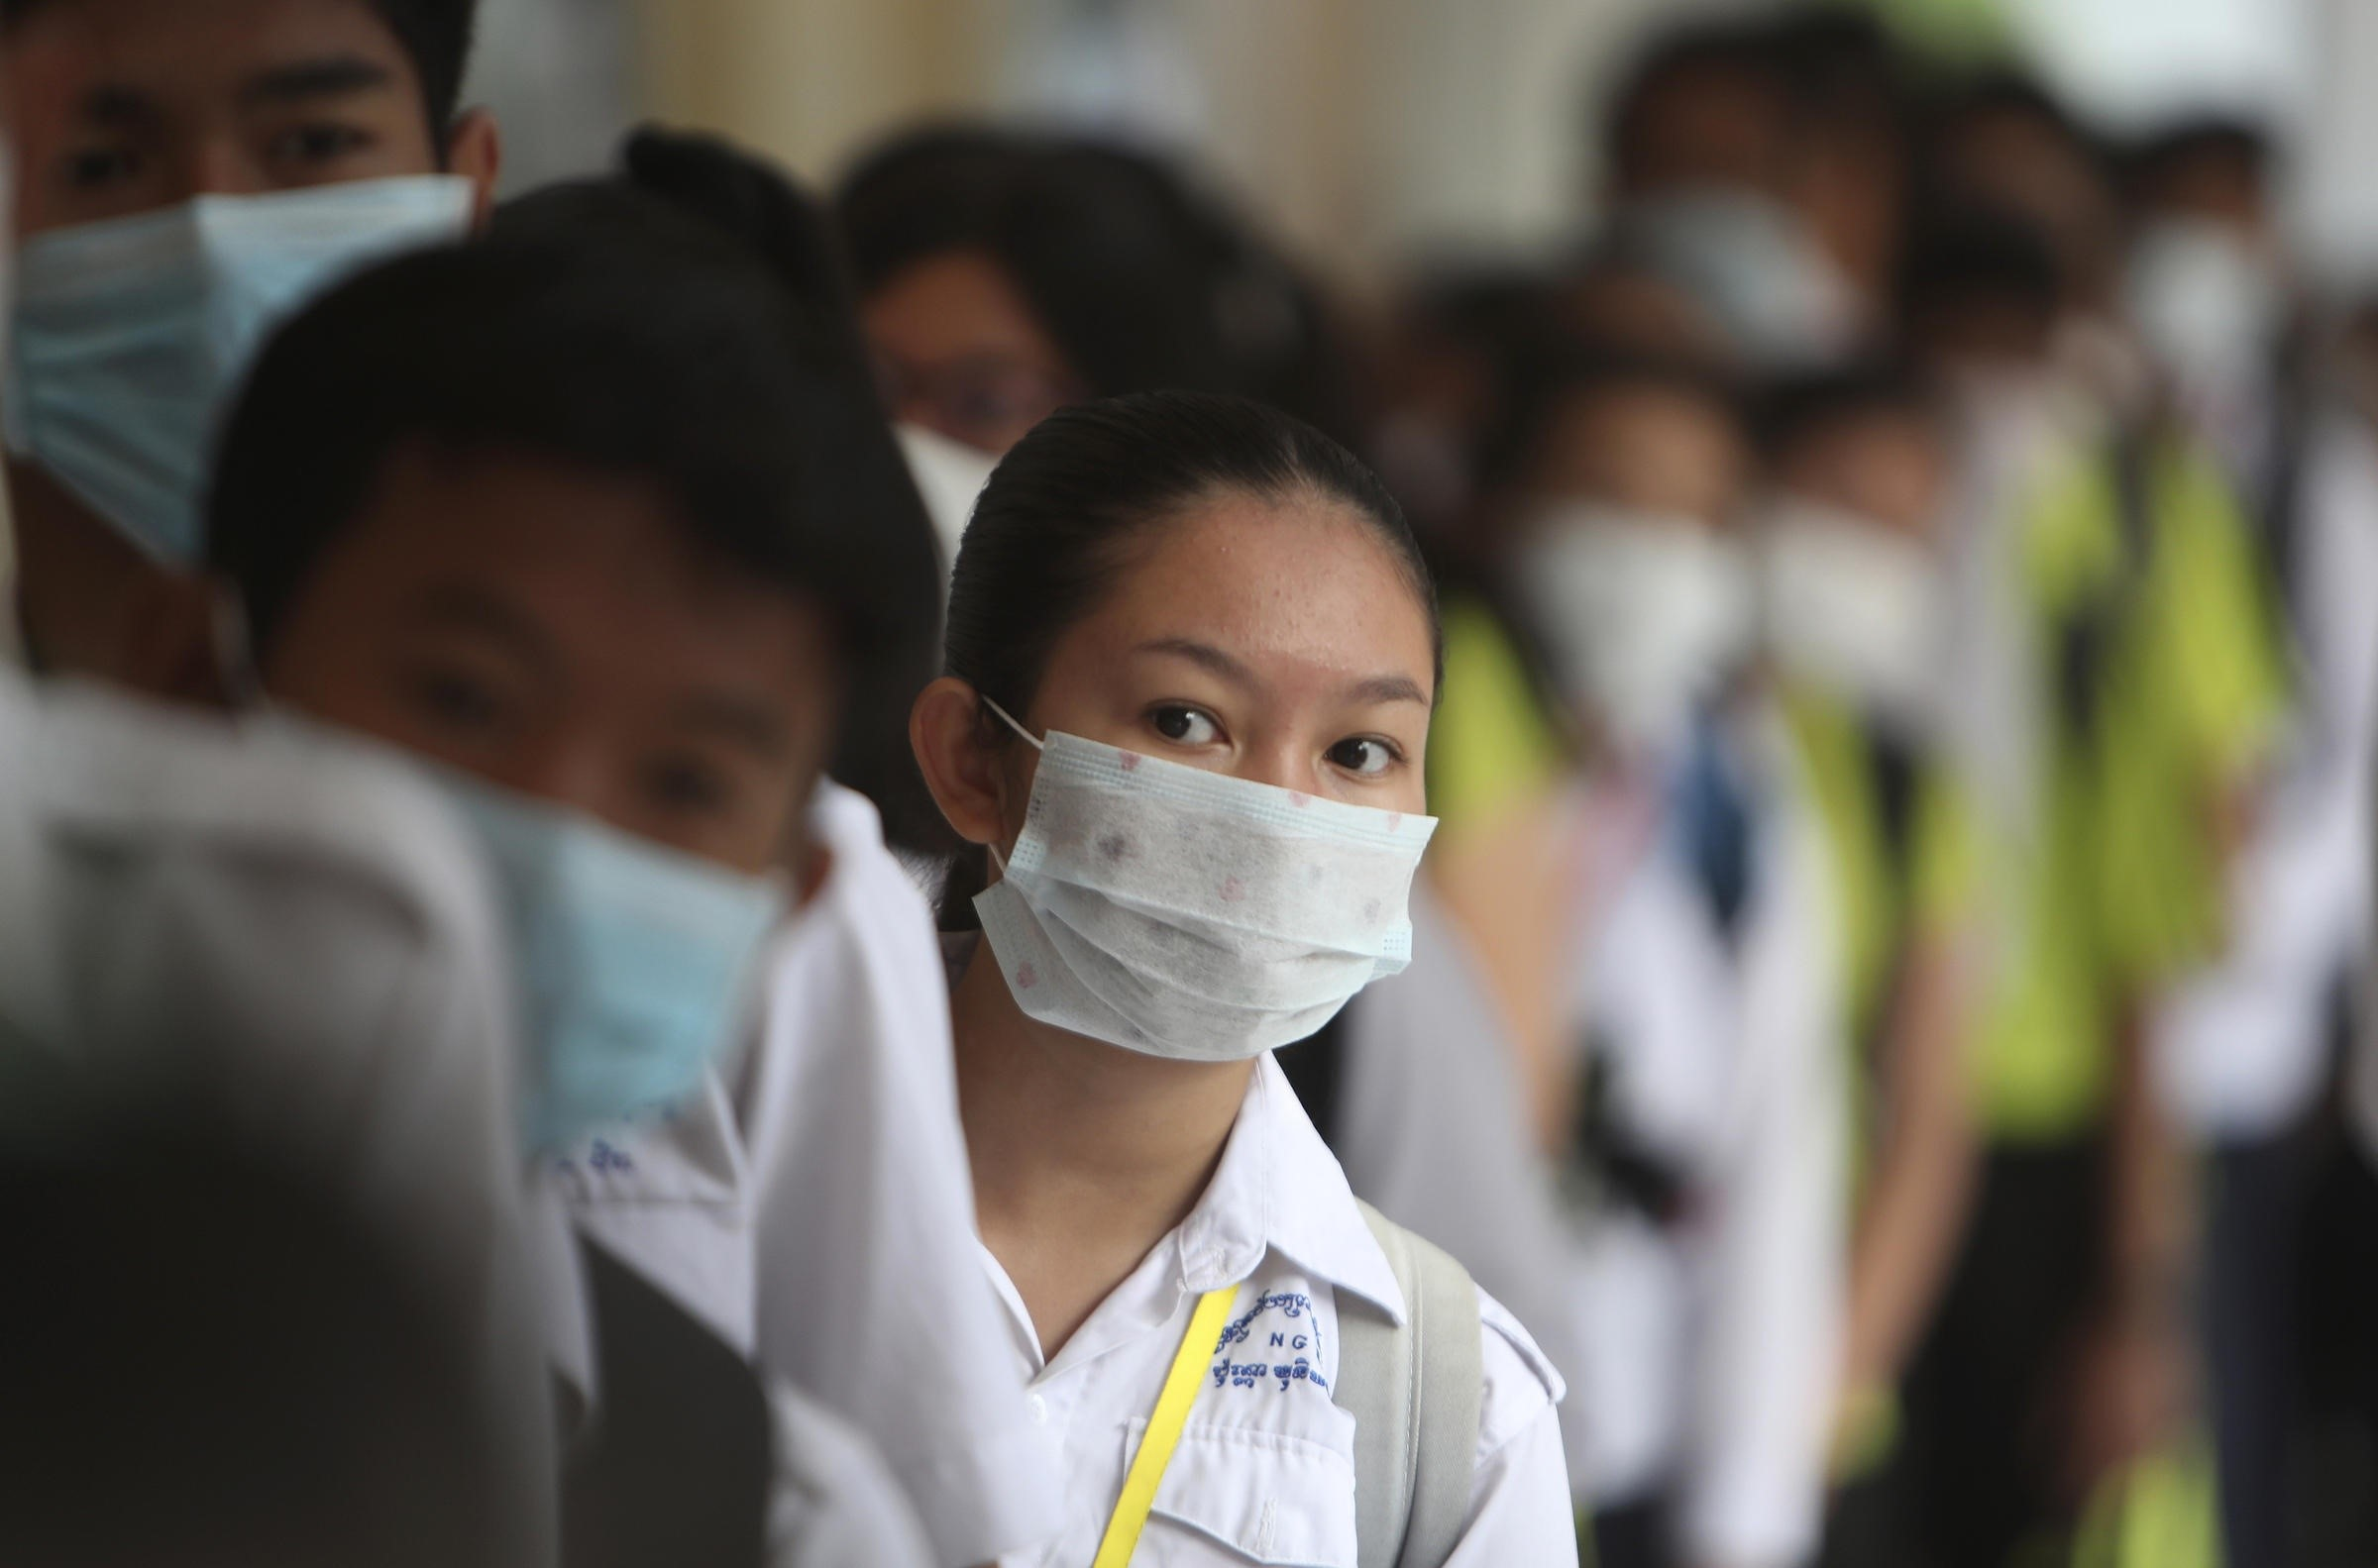face_with_mask: (262, 239, 879, 1175), (960, 399, 1437, 1071)
